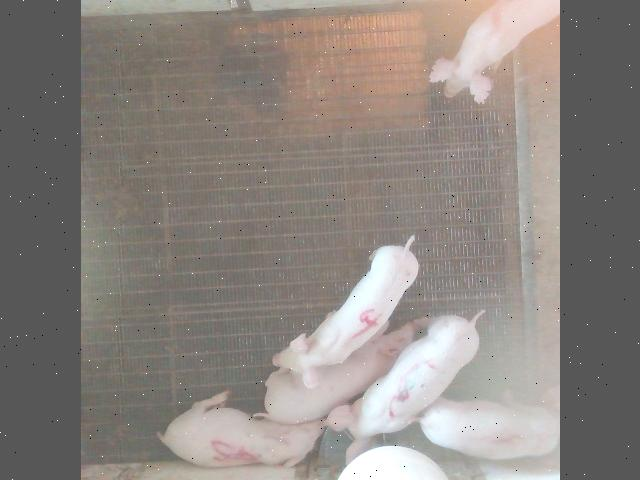pig-1: (411, 399, 559, 461)
pig-2: (429, 0, 559, 102)
pig-3: (321, 312, 482, 464)
pig-4: (272, 236, 417, 388)
pig-5: (158, 391, 322, 468)
